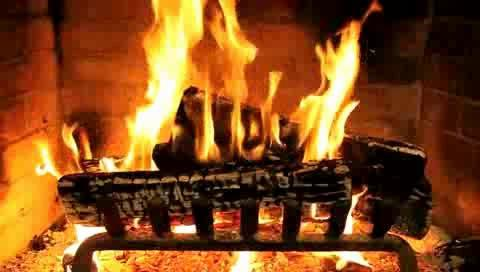fire: (135, 3, 354, 166)
